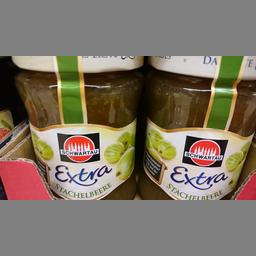jam: (12, 55, 142, 199), (138, 54, 255, 200)
